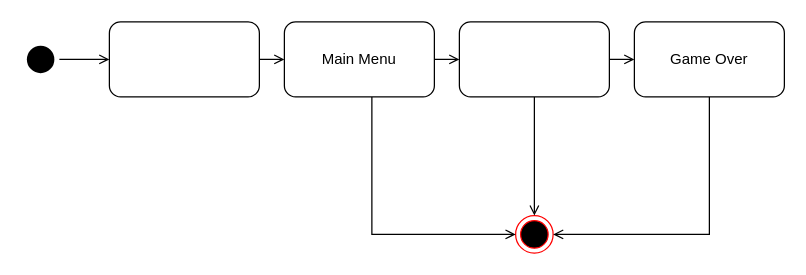
The diagram is 806 pixels wide and 275 high, and some of its shapes have lost their labels. The centre of each missing label's shape, as x and y in pixels:
"Game" goes at point 533,59.
"Game Starting" goes at point 183,59.
